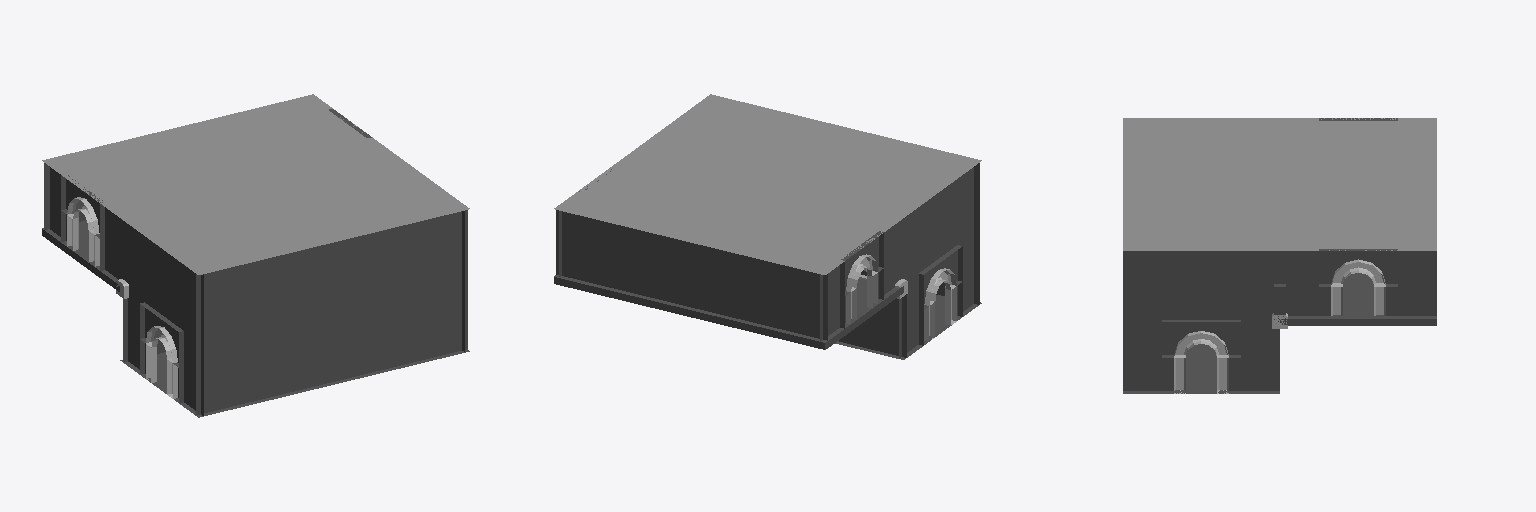
The model's file is parallelPaths.obj.
3 renders of one model, left to right at view 1: azimuth 30°, elevation 25°; view 2: azimuth 150°, elevation 25°; view 3: azimuth 270°, elevation 25°, orthographic.
Parts seen in each view (by area): view 1: struct_ceiling_153, struct_wall_main_half_150, struct_wall_main_half_148, struct_wall_big_door_upper_139, struct_wall_big_door_upper_140, struct_floor_main_half_119, struct_wall_big_door_lower_136, struct_floor_normal_122, struct_wall_main_half_143, struct_wall_big_door_lower_135, struct_wall_main_half_142, struct_wall_main_half_144; view 2: struct_ceiling_153, struct_wall_main_half_149, struct_wall_main_half_148, struct_floor_normal_122, struct_wall_main_half_123, struct_wall_big_door_upper_139, struct_wall_big_door_upper_140, struct_wall_big_door_lower_136, struct_wall_big_door_lower_135, struct_wall_main_half_142, struct_wall_main_half_144, struct_wall_main_half_150 (+2 smaller); view 3: struct_ceiling_153, struct_wall_main_half_146, struct_floor_normal_122, struct_wall_main_half_145, struct_wall_main_half_141, struct_wall_big_door_upper_138, struct_wall_big_door_upper_137, struct_wall_main_half_147, struct_floor_main_half_119, struct_wall_big_door_lower_134, struct_wall_big_door_lower_133, struct_wall_main_half_151.
Part boxes in pixels (x1,y1,x2,y2): struct_ceiling_153: (42, 94, 469, 274); struct_wall_main_half_150: (196, 210, 467, 414); struct_wall_main_half_148: (105, 207, 203, 344); struct_wall_big_door_upper_139: (140, 302, 183, 367); struct_wall_big_door_upper_140: (61, 175, 104, 238); struct_floor_main_half_119: (120, 349, 469, 417); struct_wall_big_door_lower_136: (140, 338, 183, 402); struct_floor_normal_122: (42, 220, 119, 291); struct_wall_main_half_143: (184, 331, 203, 415); struct_wall_big_door_lower_135: (61, 209, 104, 270); struct_wall_main_half_142: (128, 291, 143, 369); struct_wall_main_half_144: (50, 167, 60, 236); struct_ceiling_153: (554, 94, 981, 274); struct_wall_main_half_149: (556, 210, 827, 340); struct_wall_main_half_148: (884, 167, 973, 294); struct_floor_normal_122: (554, 275, 903, 349); struct_wall_main_half_123: (839, 294, 906, 357); struct_wall_big_door_upper_139: (919, 245, 962, 309); struct_wall_big_door_upper_140: (840, 231, 883, 296); struct_wall_big_door_lower_136: (919, 281, 962, 345); struct_wall_big_door_lower_135: (840, 267, 883, 328); struct_wall_main_half_142: (899, 274, 918, 358); struct_wall_main_half_144: (820, 265, 839, 341); struct_wall_main_half_150: (936, 163, 979, 304); struct_ceiling_153: (1123, 118, 1436, 250); struct_wall_main_half_146: (1123, 251, 1318, 319); struct_floor_normal_122: (1280, 273, 1436, 325); struct_wall_main_half_145: (1123, 320, 1161, 390); struct_wall_main_half_141: (1241, 320, 1279, 390); struct_wall_big_door_upper_138: (1162, 320, 1240, 357); struct_wall_big_door_upper_137: (1319, 249, 1397, 286); struct_wall_main_half_147: (1398, 251, 1436, 315); struct_floor_main_half_119: (1123, 344, 1279, 393); struct_wall_big_door_lower_134: (1162, 355, 1240, 393); struct_wall_big_door_lower_133: (1319, 283, 1397, 315); struct_wall_main_half_151: (1398, 251, 1436, 283).
Bounding box in the file's own units: 8 × 4 × 8.